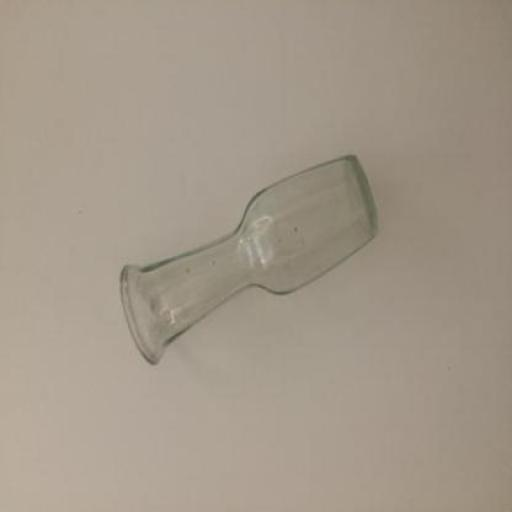glass: (118, 154, 374, 362)
